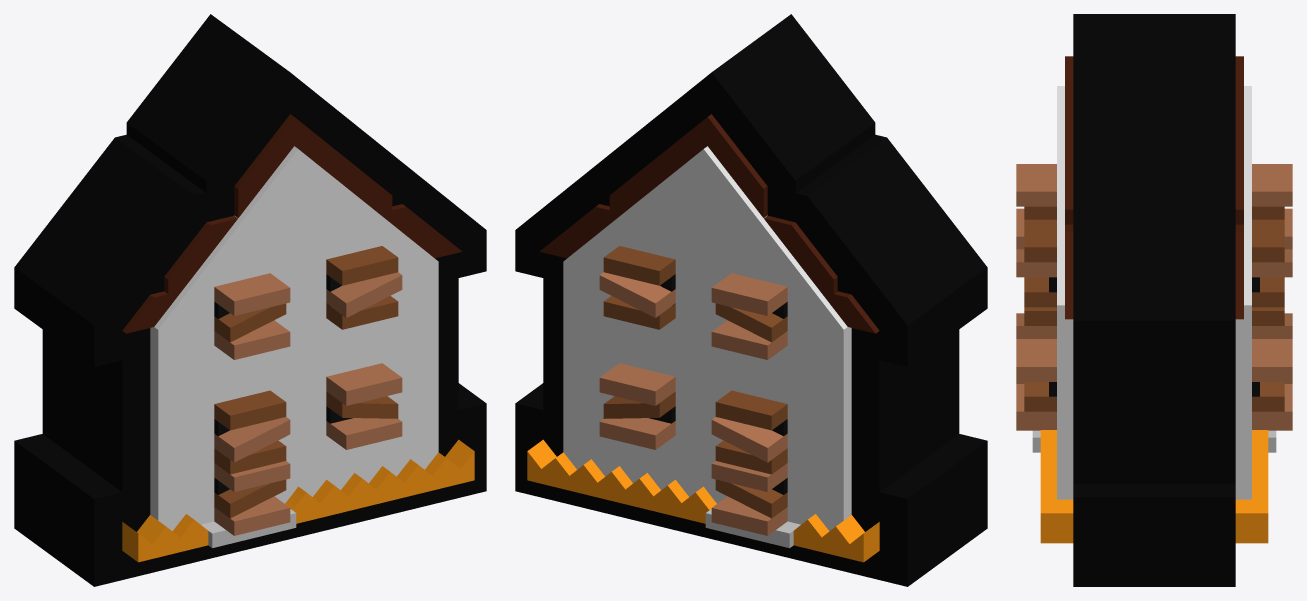
3 renders of one model, left to right at view 1: azimuth 30°, elevation 25°; view 2: azimuth 150°, elevation 25°; view 3: azimuth 270°, elevation 25°, orthographic.
Parts seen in each view (by area): view 1: U+1F3DA_layer00_obj00, U+1F3DA_layer02_obj00, U+1F3DA_layer07_obj00, U+1F3DA_layer06_obj00, U+1F3DA_layer01_obj00, U+1F3DA_layer04_obj00, U+1F3DA_layer05_obj00, U+1F3DA_layer03_obj00; view 2: U+1F3DA_layer00_obj00, U+1F3DA_layer02_obj00, U+1F3DA_layer07_obj00, U+1F3DA_layer06_obj00, U+1F3DA_layer01_obj00, U+1F3DA_layer04_obj00, U+1F3DA_layer05_obj00, U+1F3DA_layer03_obj00; view 3: U+1F3DA_layer00_obj00, U+1F3DA_layer07_obj00, U+1F3DA_layer02_obj00, U+1F3DA_layer06_obj00, U+1F3DA_layer04_obj00, U+1F3DA_layer01_obj00, U+1F3DA_layer03_obj00, U+1F3DA_layer05_obj00.
Boxes of the visible parts, x1,y1,x2,y2 form: U+1F3DA_layer00_obj00: [14, 14, 486, 586]; U+1F3DA_layer02_obj00: [150, 146, 438, 531]; U+1F3DA_layer07_obj00: [214, 272, 402, 535]; U+1F3DA_layer06_obj00: [214, 246, 398, 518]; U+1F3DA_layer01_obj00: [122, 114, 461, 333]; U+1F3DA_layer04_obj00: [122, 439, 474, 562]; U+1F3DA_layer05_obj00: [201, 509, 296, 548]; U+1F3DA_layer03_obj00: [214, 274, 352, 494]; U+1F3DA_layer00_obj00: [515, 14, 987, 586]; U+1F3DA_layer02_obj00: [563, 146, 851, 531]; U+1F3DA_layer07_obj00: [599, 272, 787, 535]; U+1F3DA_layer06_obj00: [603, 246, 787, 518]; U+1F3DA_layer01_obj00: [540, 114, 879, 333]; U+1F3DA_layer04_obj00: [527, 439, 879, 562]; U+1F3DA_layer05_obj00: [705, 509, 800, 548]; U+1F3DA_layer03_obj00: [649, 274, 787, 494]; U+1F3DA_layer00_obj00: [1073, 14, 1235, 586]; U+1F3DA_layer07_obj00: [1016, 164, 1292, 430]; U+1F3DA_layer02_obj00: [1057, 86, 1251, 499]; U+1F3DA_layer06_obj00: [1024, 206, 1284, 411]; U+1F3DA_layer04_obj00: [1040, 430, 1268, 543]; U+1F3DA_layer01_obj00: [1065, 56, 1243, 319]; U+1F3DA_layer03_obj00: [1049, 277, 1259, 396]; U+1F3DA_layer05_obj00: [1032, 430, 1276, 452].
Bounding box in the file's own units: 0.5678 × 0.6456 × 0.34.
